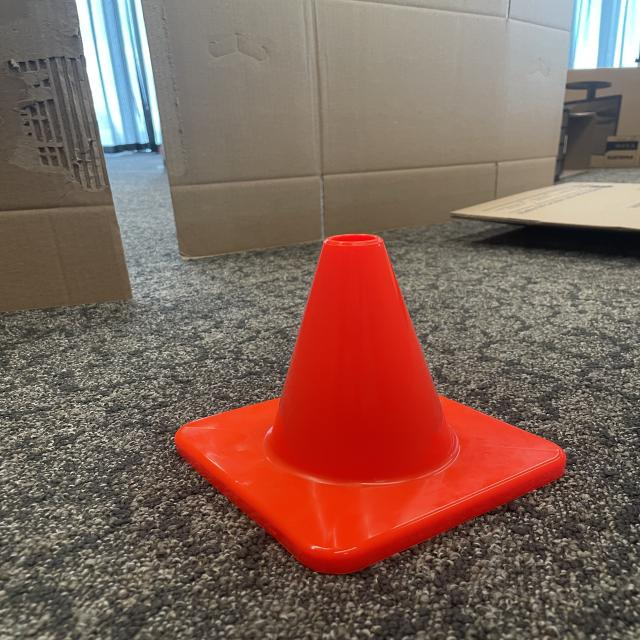Traffic Cone: (164, 206, 576, 590)
